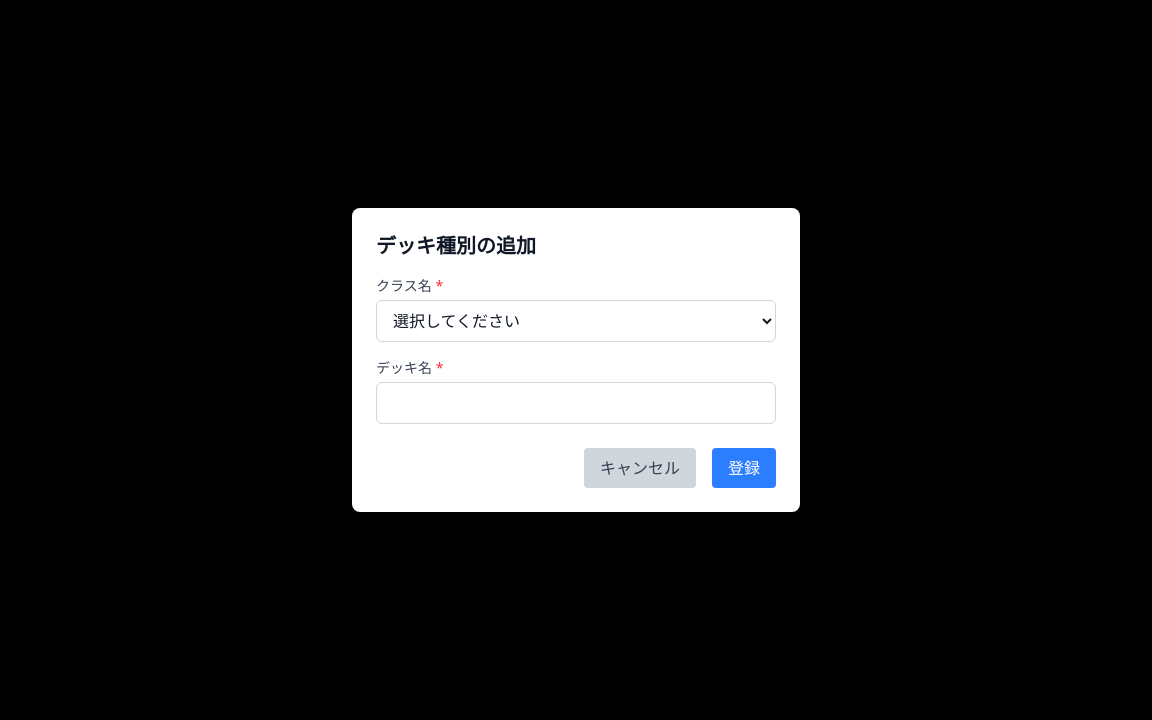
Test: DeckMasterDialog › バリデーション › TC-DM-DIALOG-007: deckName空で登録ボタン押下時にエラー表示
This screenshot has width=1152, height=720.
// 【className選択】: クラス名を選択 🔵
Step 1. Select "エルフ" in the dropdown labelled "クラス名 *" → (576, 321), box left=376, top=300, right=776, bottom=342
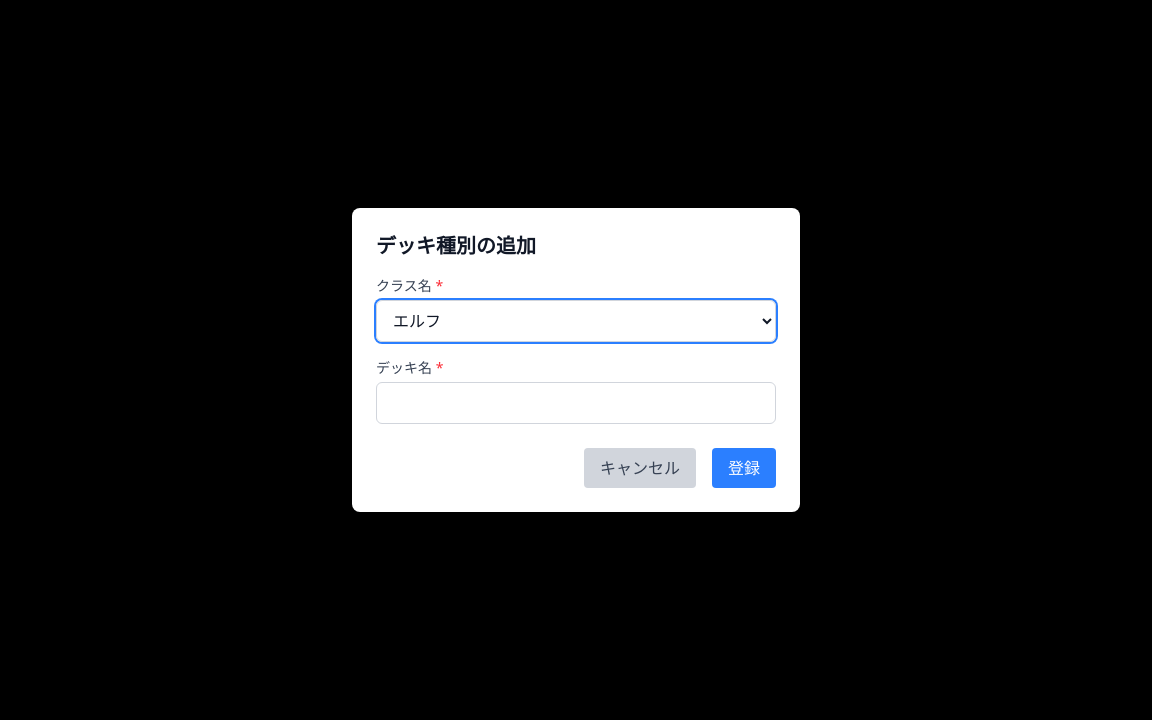
// 【登録ボタンクリック】: deckName未入力で登録ボタンを押す 🔵
Step 2. Click the button "登録" → (744, 468), box left=712, top=448, right=776, bottom=488
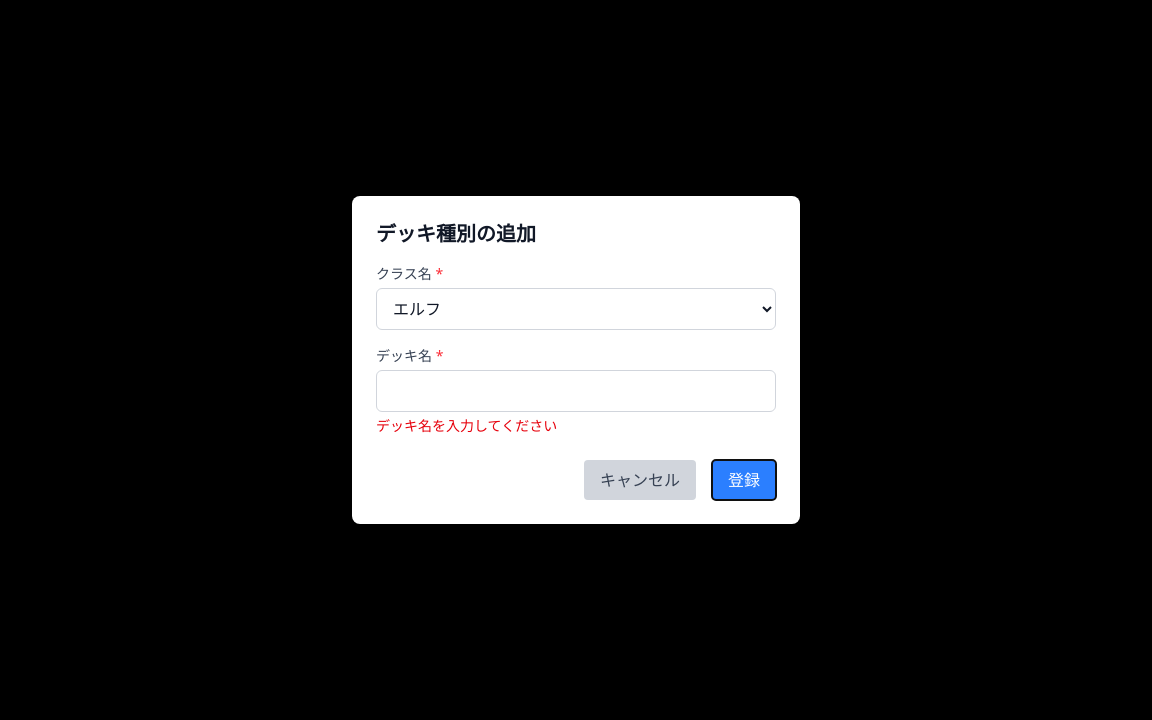
expect the text "デッキ名を入力してください" is shown: met, box left=376, top=416, right=557, bottom=435
